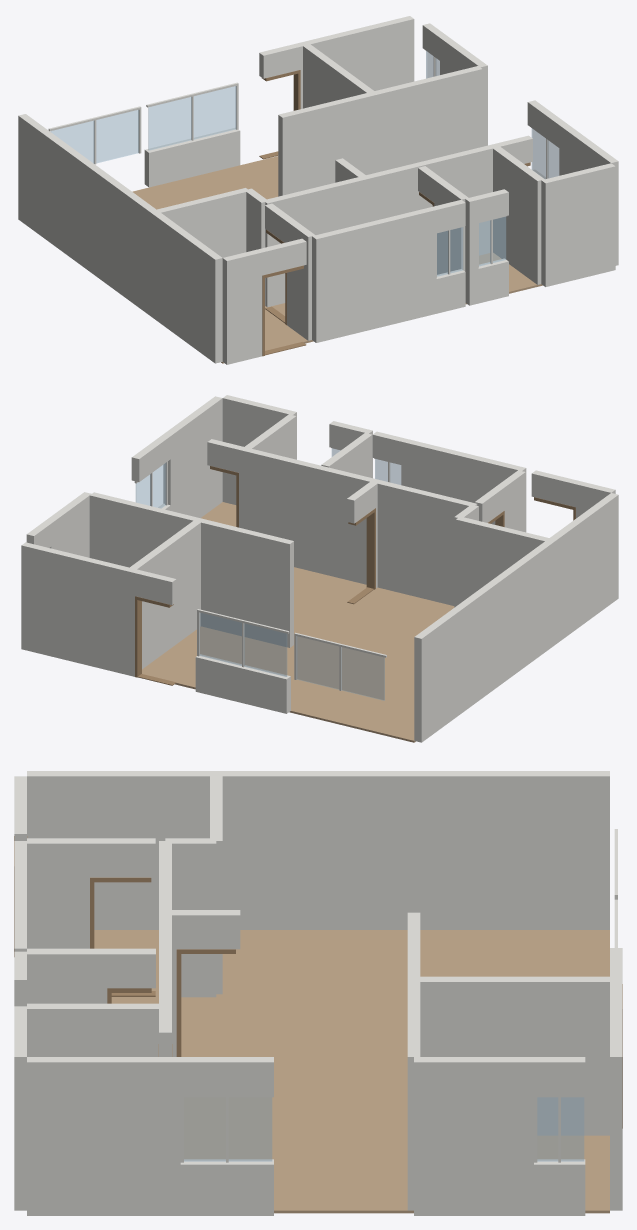
File: high_quality_architectural_3868.glb
The picture shows the model from 3 angles, top to bottom: view 1: azimuth 30°, elevation 25°; view 2: azimuth 150°, elevation 25°; view 3: azimuth 270°, elevation 25°; orthographic projection. The views are drawn at different scales.
Visible parts, largest first — view 1: Wall_7_solid, Wall_19_solid, Wall_13_solid, Wall_23_solid, Wall_0_solid, Wall_10_solid, Wall_11_solid, Wall_20_solid, Wall_6_solid, Wall_4_solid, Window_1, Wall_8_sill (+28 smaller); view 2: Floor_1_living_room, Wall_7_solid, Wall_11_solid, Wall_10_solid, Wall_6_solid, Wall_0_solid, Wall_16_solid, Wall_9_solid, Wall_13_solid, Wall_19_solid, Wall_17_solid, Wall_22_solid (+27 smaller); view 3: Wall_7_solid, Floor_1_living_room, Floor_3_bedroom, Wall_22_solid, Wall_9_solid, Wall_12_solid, Wall_0_solid, Wall_20_solid, Wall_3_solid, Window_9, Wall_14_sill, Wall_2_solid (+23 smaller).
Part boxes in pixels (x1,y1,x2,y2): Wall_7_solid: (18,114,158,316); Wall_19_solid: (312,207,436,342); Wall_13_solid: (371,66,482,172); Wall_23_solid: (541,163,615,286); Wall_0_solid: (151,211,222,363); Wall_10_solid: (278,92,374,196); Wall_11_solid: (303,16,414,90); Wall_20_solid: (491,145,544,284); Wall_6_solid: (265,177,366,307); Wall_4_solid: (222,249,262,364); Window_1: (148,86,236,150); Wall_8_sill: (144,128,240,187); Floor_1_living_room: (142,587,454,742); Wall_7_solid: (414,540,554,742); Wall_11_solid: (21,542,132,675); Wall_10_solid: (200,518,293,647); Wall_6_solid: (374,479,477,605); Wall_0_solid: (547,493,618,644); Wall_16_solid: (243,448,323,573); Wall_9_solid: (130,520,202,669); Wall_13_solid: (89,492,201,567); Wall_19_solid: (401,438,526,531); Wall_17_solid: (320,466,377,584); Wall_22_solid: (169,396,222,517); Wall_7_solid: (216,771,609,929); Floor_1_living_room: (181,930,609,1065); Floor_3_bedroom: (184,1066,413,1213); Wall_22_solid: (27,1057,165,1215); Wall_9_solid: (414,976,609,1135); Wall_12_solid: (414,1057,533,1215); Wall_0_solid: (27,771,216,929); Wall_20_solid: (27,1003,158,1056); Wall_3_solid: (27,838,89,948); Window_9: (184,1097,272,1161); Wall_14_sill: (180,1159,273,1215); Wall_2_solid: (165,838,216,997).
Size of the model in its own units: 10.98 by 2.75 by 9.7.
